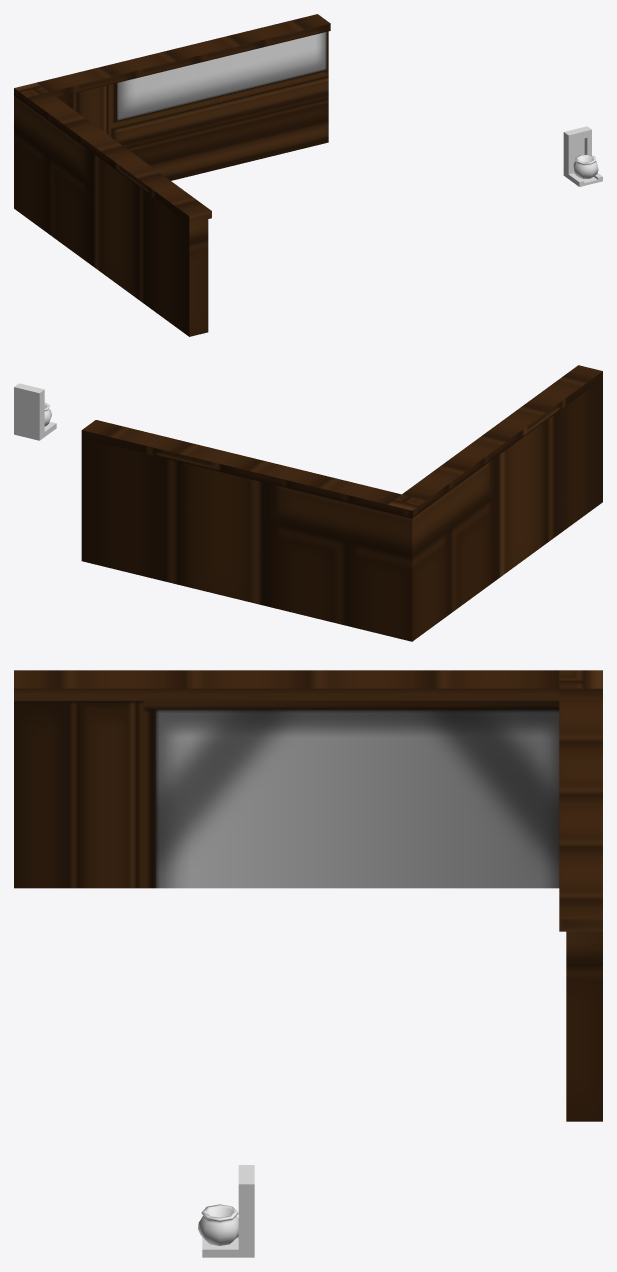
File: StoreWall2ndStepRoot.FBX
3 renders of one model, top to bottom at view 1: azimuth 30°, elevation 25°; view 2: azimuth 150°, elevation 25°; view 3: azimuth 270°, elevation 25°, orthographic. The views are drawn at different scales.
Parts seen in each view (by area): view 1: Object143, Object132; view 2: Object143, Object132; view 3: Object143, Object132.
Boxes of the visible parts, <box> form: Object143: <box>14,14,330,336</box>; Object132: <box>563,126,602,186</box>; Object143: <box>81,365,602,641</box>; Object132: <box>14,383,56,440</box>; Object143: <box>14,670,602,1121</box>; Object132: <box>198,1165,254,1257</box>.
Bounding box in the file's own units: 24.74 × 6.07 × 16.
